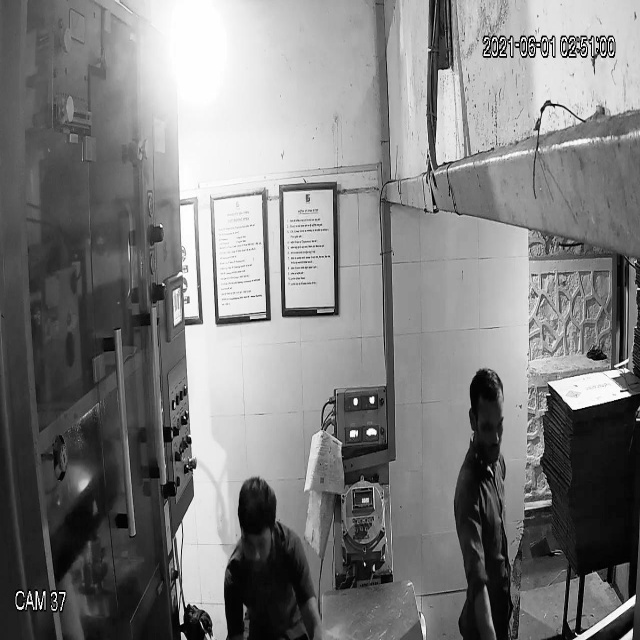Sin_gafas: (465, 406, 513, 449)
